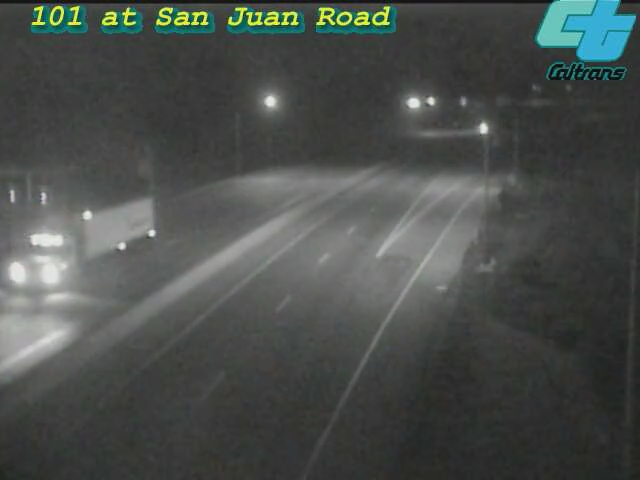vehicle: (61, 196, 141, 276), (461, 102, 511, 152)
